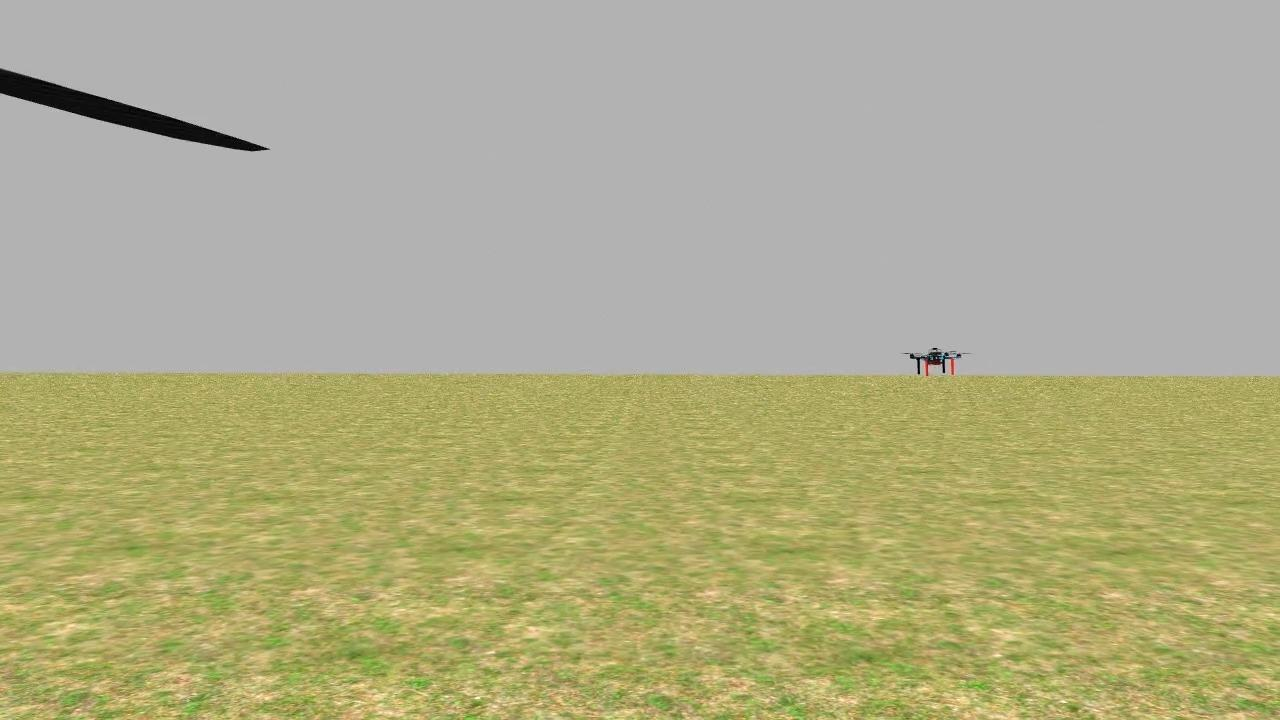UAV: (896, 331, 978, 385)
